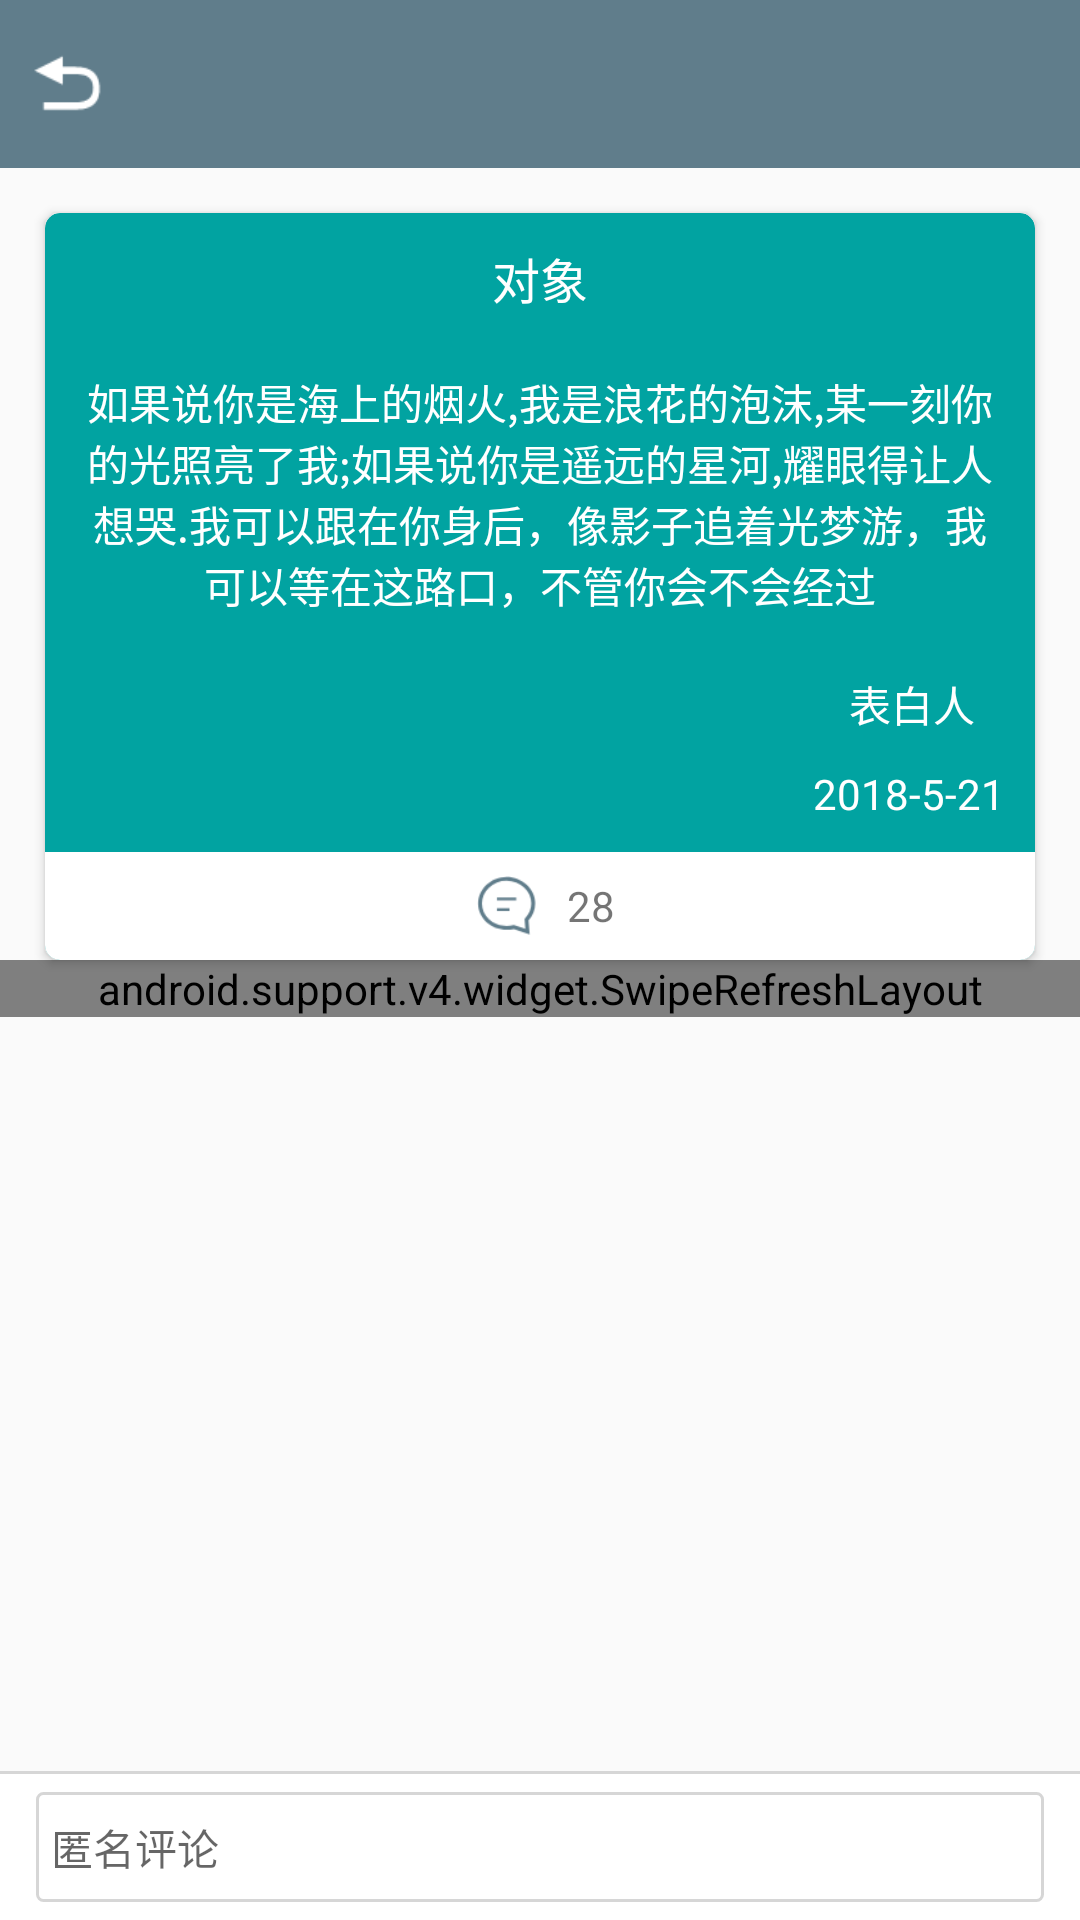

Icon bounding boxes for this 1080px×1920px phone screenshot, format (x1, y1, x2, y2):
back: (34, 56, 101, 111)
comment: (478, 876, 536, 935)
